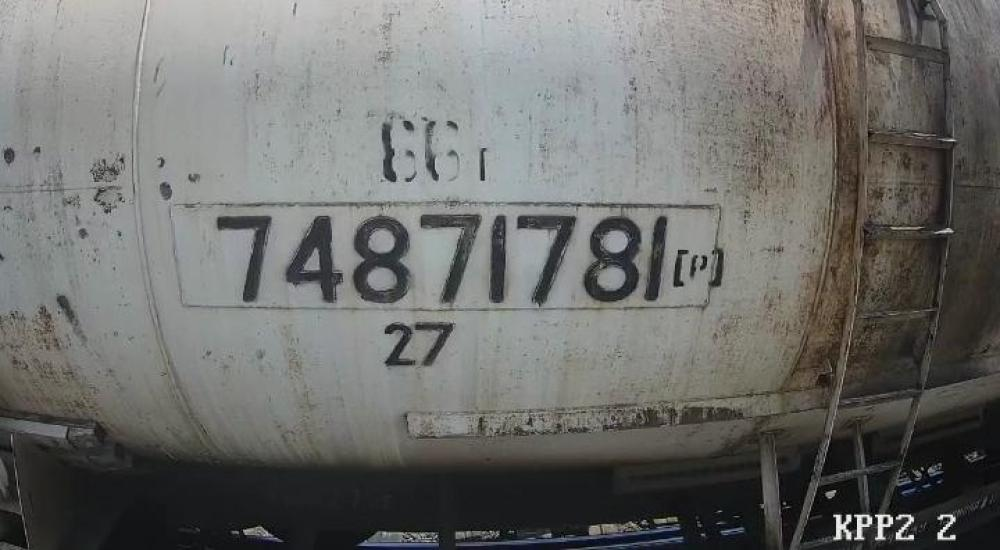Wagon-number: (211, 208, 673, 308)
